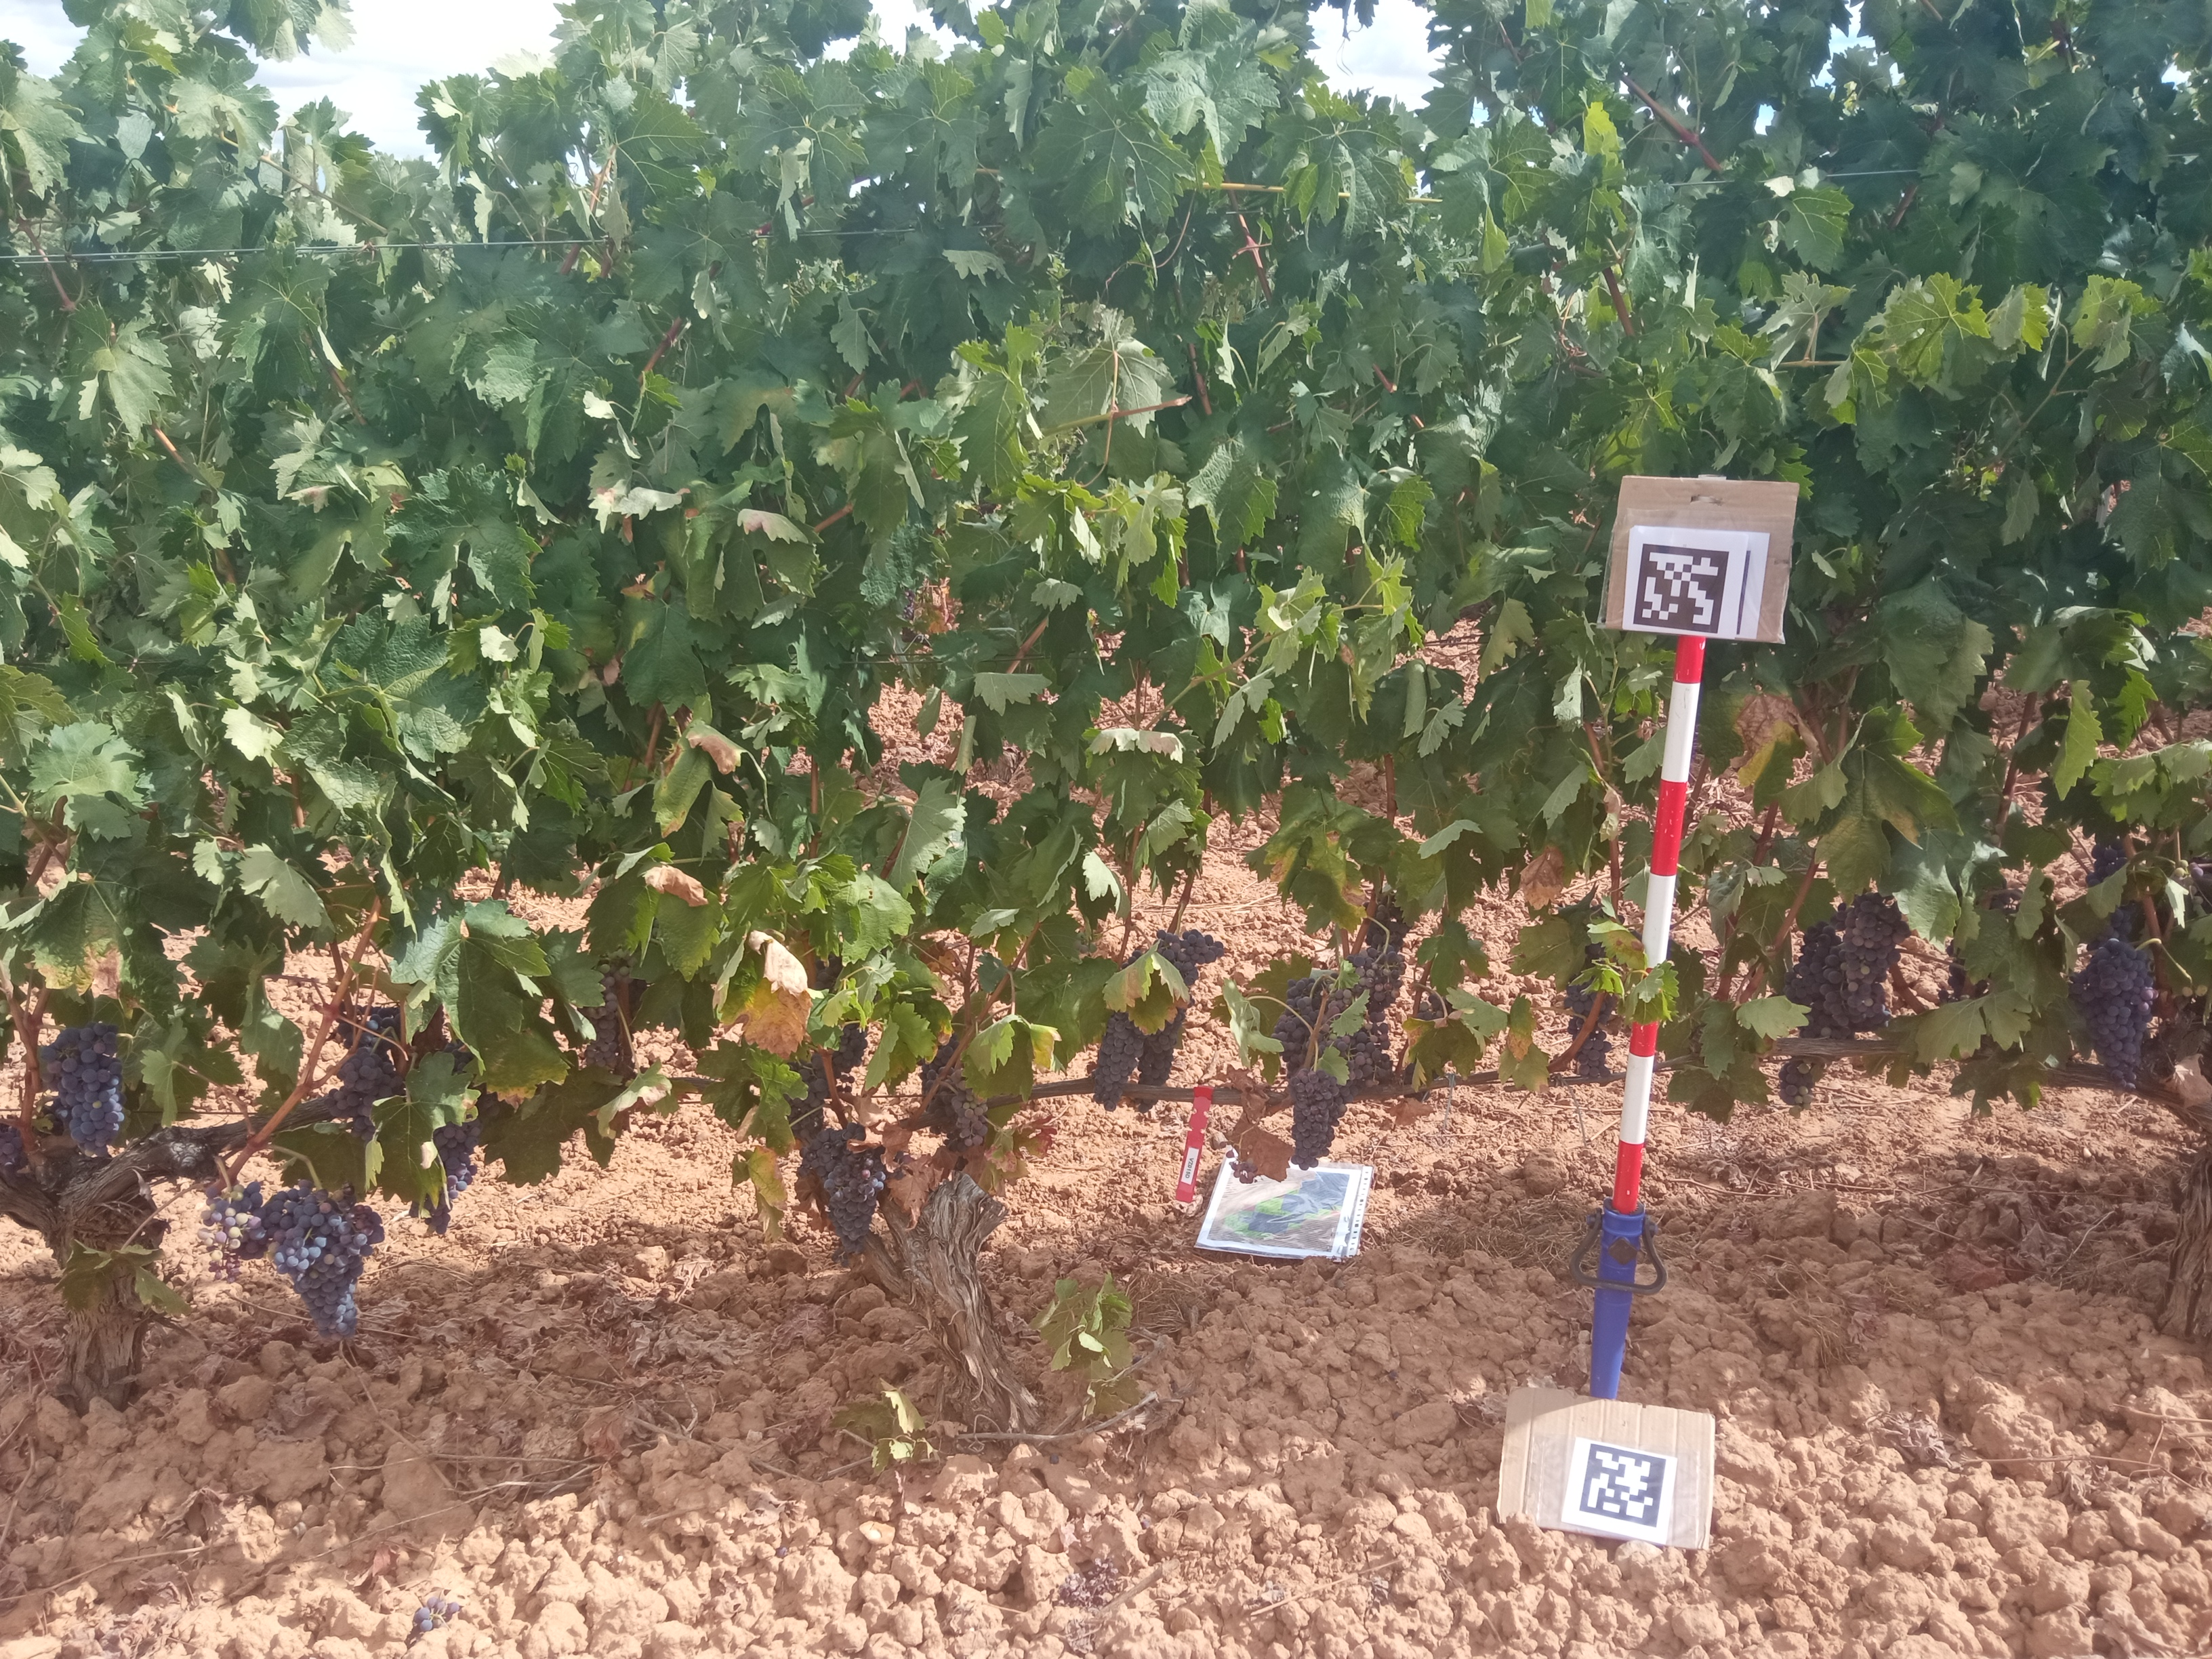grapes: (265, 1176, 387, 1344), (2067, 934, 2161, 1094), (794, 1119, 887, 1269), (37, 1021, 127, 1159), (322, 999, 406, 1145), (1829, 887, 1912, 1032), (916, 1030, 991, 1175), (1780, 920, 1850, 1042), (195, 1178, 268, 1284), (1134, 993, 1197, 1115), (1287, 1066, 1348, 1173), (1318, 1021, 1397, 1103), (1559, 983, 1620, 1080), (1090, 1007, 1144, 1114), (1271, 972, 1325, 1068), (1345, 941, 1409, 1021), (578, 962, 622, 1070), (1153, 925, 1226, 988), (784, 1053, 831, 1138), (430, 1121, 479, 1199), (1360, 890, 1413, 958), (831, 1018, 871, 1094), (2083, 899, 2141, 951), (1777, 1056, 1822, 1121), (2083, 836, 2128, 885), (1217, 1138, 1261, 1187), (416, 1039, 474, 1073), (408, 1195, 455, 1237), (2174, 856, 2210, 906), (1937, 939, 1965, 1006), (465, 1082, 502, 1122), (0, 1122, 28, 1175), (608, 945, 641, 988), (813, 948, 845, 993), (1413, 993, 1454, 1025), (1325, 986, 1352, 1021), (1987, 889, 2024, 913), (1979, 817, 2006, 845), (2177, 981, 2209, 1006), (892, 1147, 913, 1180), (1118, 946, 1144, 972), (1075, 927, 1099, 955), (1583, 941, 1608, 967), (488, 835, 512, 859), (1970, 976, 1989, 1000), (1402, 1089, 1432, 1105), (1402, 1061, 1418, 1086), (650, 917, 662, 941)
